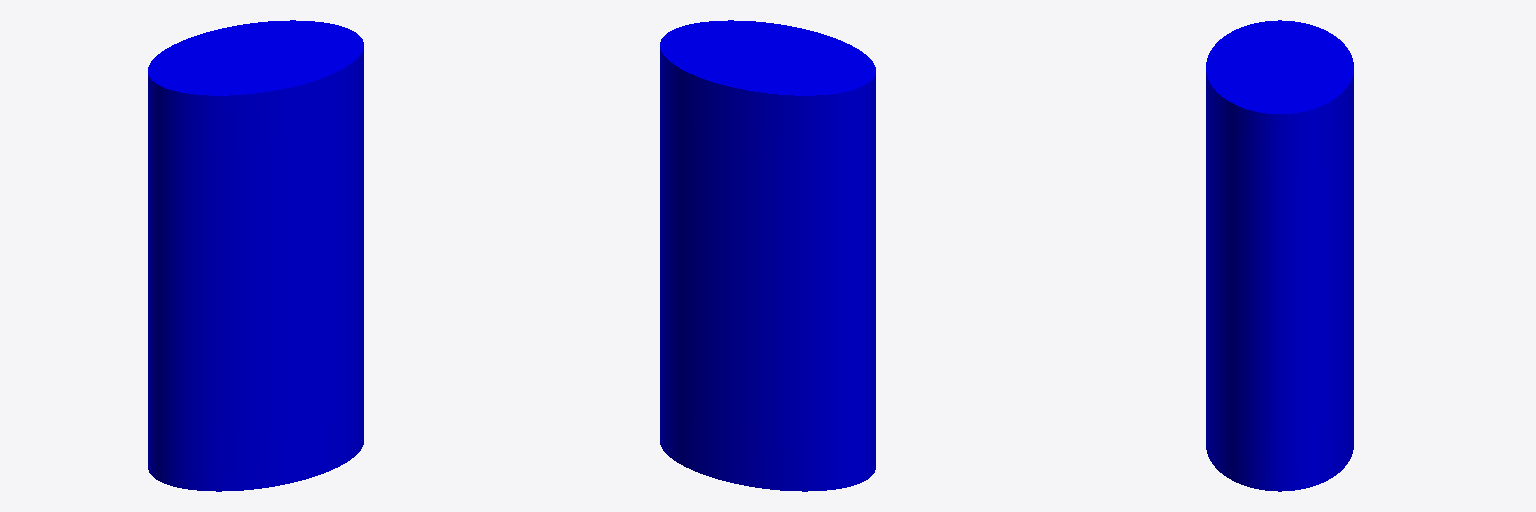
URDF robot description (board1_block7):
<?xml version="1.0"?>
<robot name="board1_block7">
    <link name="board1_block7">
        <visual>
            <origin xyz="0 0 0 " rpy=" 0 0 0"/>
            <geometry>
                <mesh filename="../meshes/SIMO_Board1_Block7.stl" scale="0.001 0.001 0.001"/>
            </geometry>
            <material name="red">
                <color rgba="0.0 0.0 1.0 1.0"/>
            </material>
        </visual>
        <collision>
            <origin xyz="0 0 0" rpy="0 0 0"/>
            <geometry>
                <mesh filename="../meshes/SIMO_Board1_Block7.stl" scale="0.001 0.001 0.001"/>
            </geometry>
        </collision>
    </link>
</robot>

--- What the picture shows (computed from the rendered views, not written in the file) ---
3 views of the same robot in one strip: view 1: azimuth 30°, elevation 25°; view 2: azimuth 150°, elevation 25°; view 3: azimuth 270°, elevation 25° (orthographic).
Model board1_block7 with 1 links and 0 joints (none), rooted at board1_block7, posed all joints at 0.
Visible links, largest first — view 1: board1_block7; view 2: board1_block7; view 3: board1_block7.
Boxes of the visible links, <box> form: board1_block7: <box>148,20,363,491</box>; board1_block7: <box>660,20,875,491</box>; board1_block7: <box>1206,20,1353,491</box>.
Bounding box of the posed robot: 0.0534 × 0.0356 × 0.1 m (x, y, z).
Meshes: 1 distinct files referenced, 1 mesh visuals loaded (1 ASCII STL).